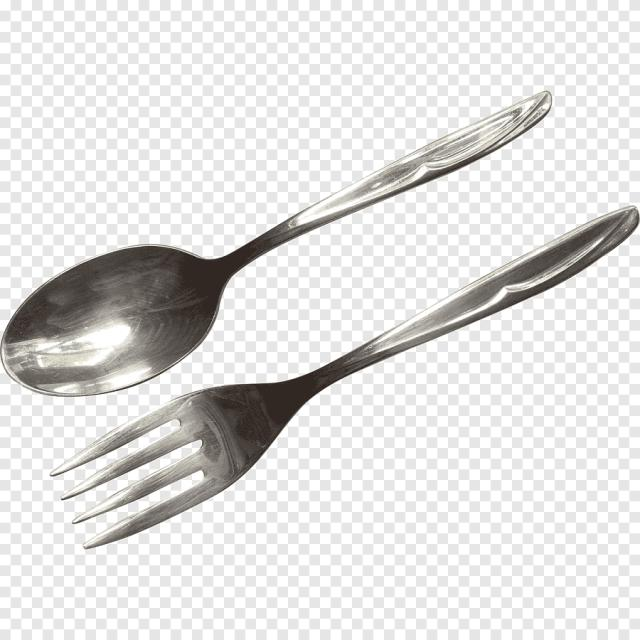Garpu: (18, 194, 636, 562)
Sendok: (4, 73, 576, 407)
